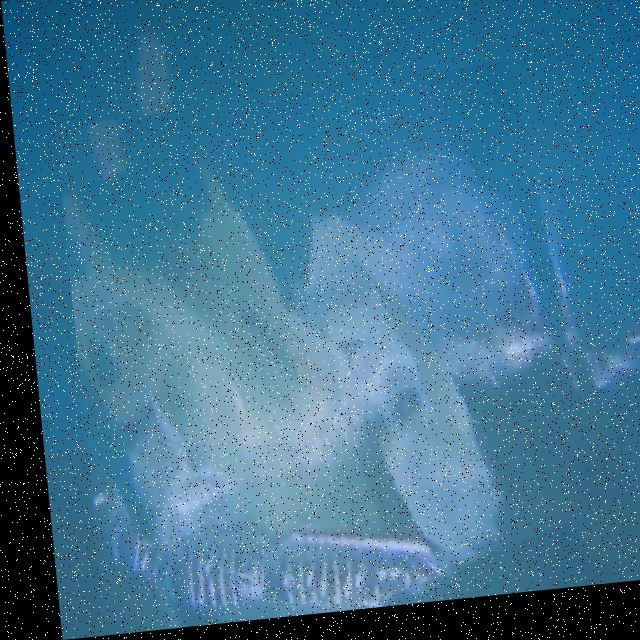litter: (50, 66, 603, 637)
